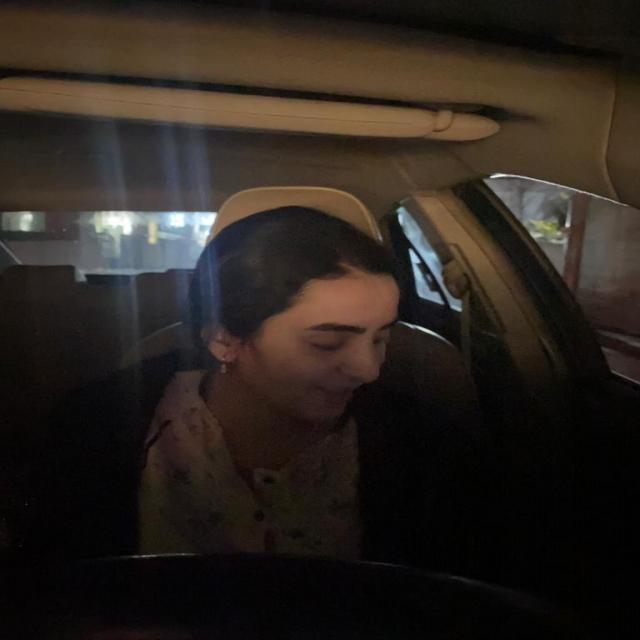drowsy: (186, 207, 420, 428)
